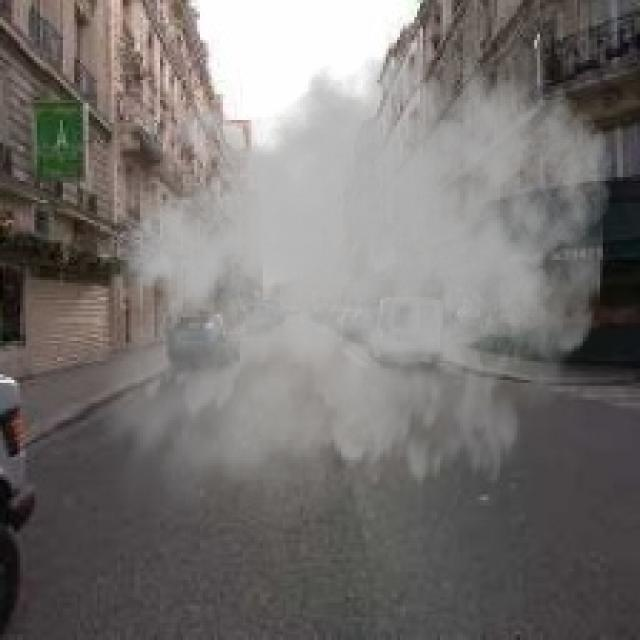Smoke: (77, 20, 614, 546)
